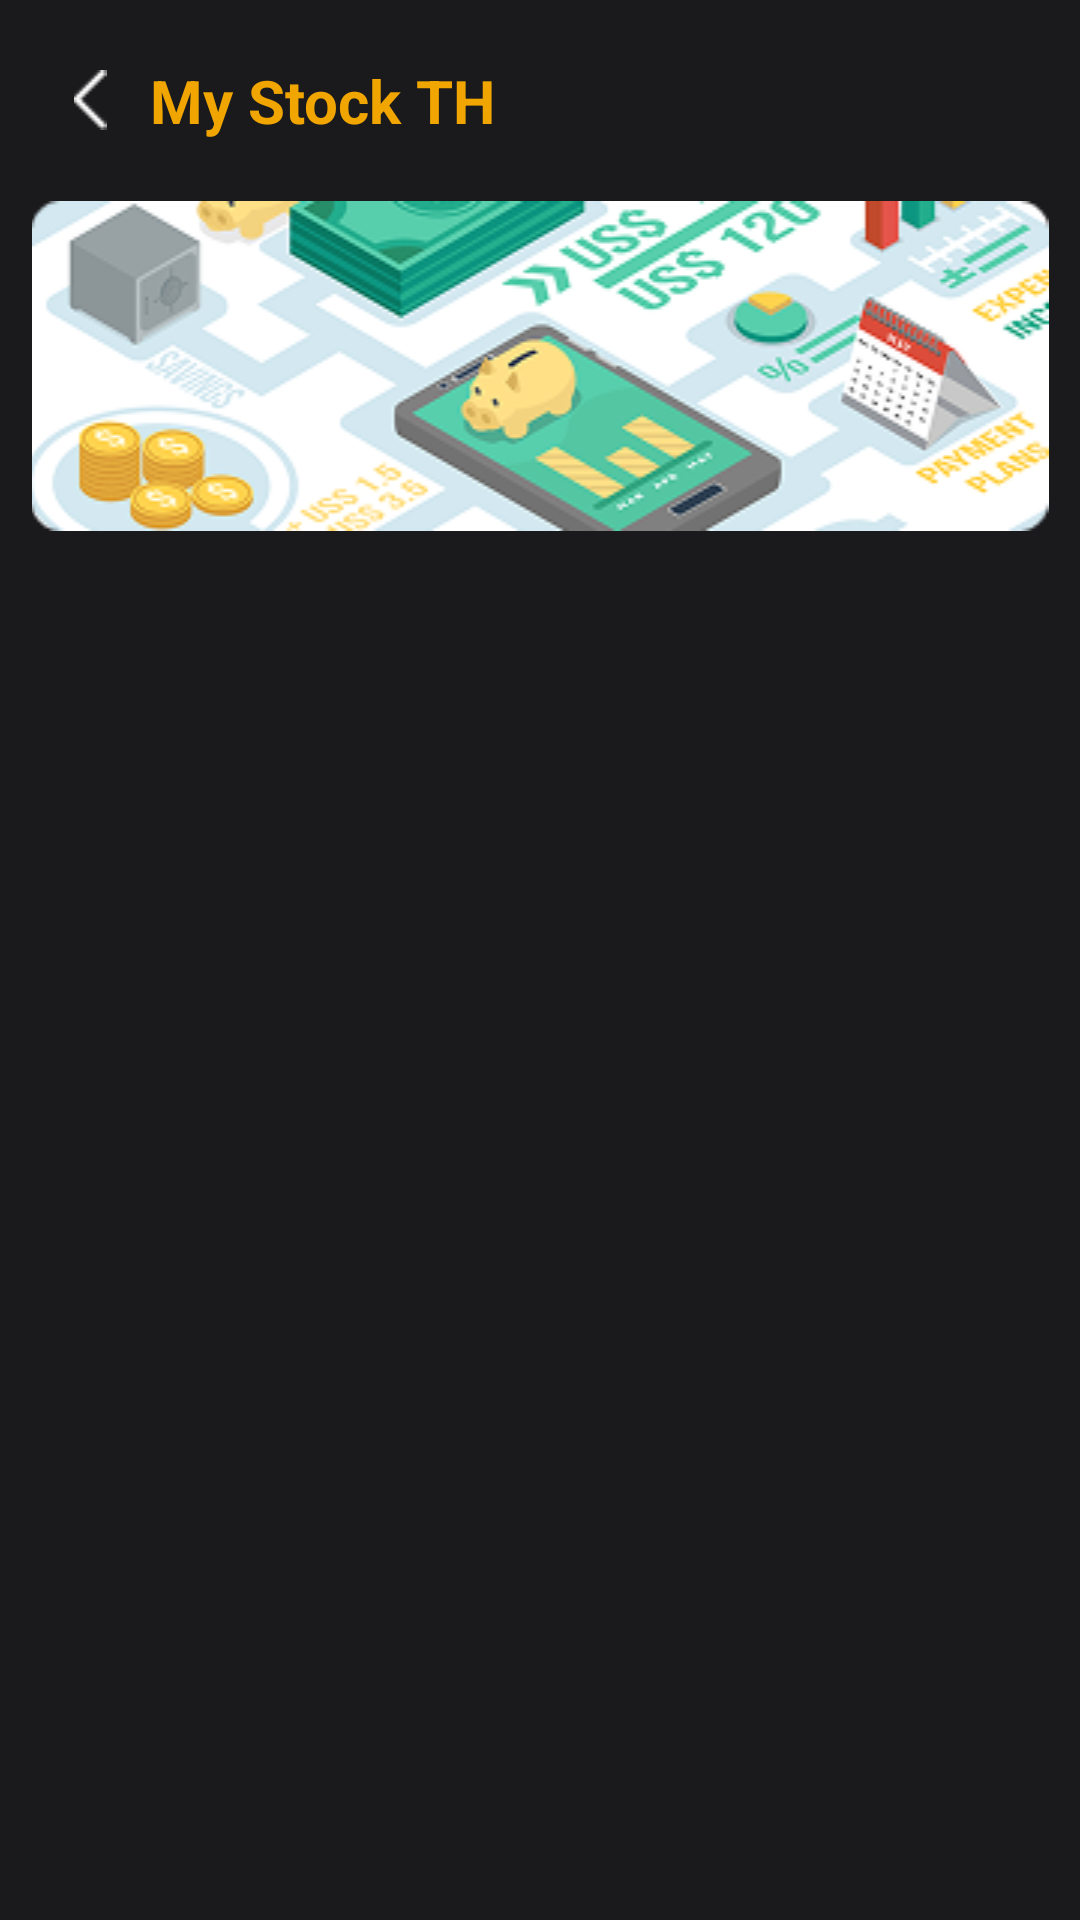

Point at icon controls on the screen. Image size 1080 x 1920, points as [x,y].
arrow: [90,100]
